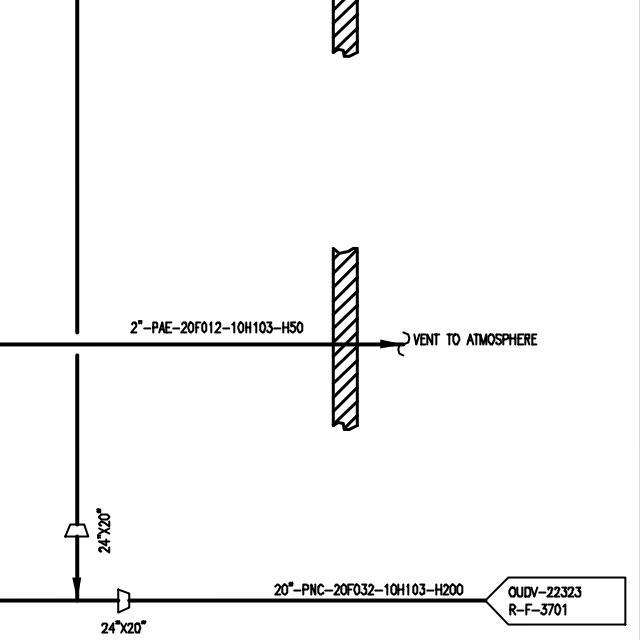SP: (62, 522, 94, 542), (113, 586, 134, 615)
